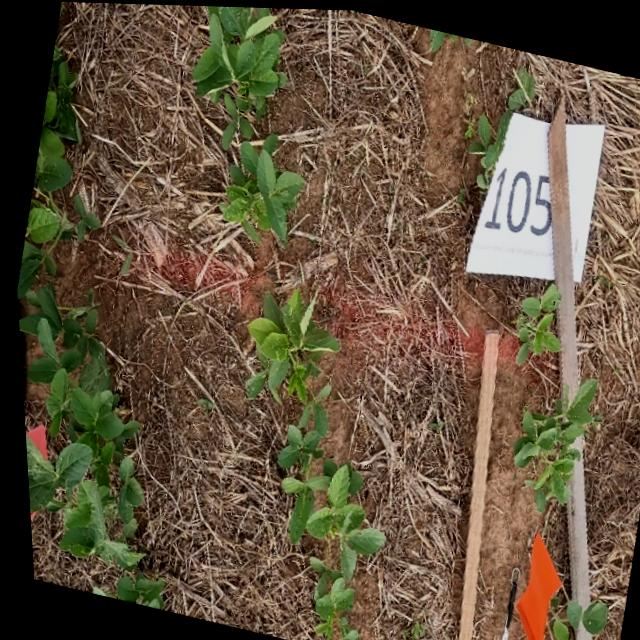soy_plant: (241, 289, 377, 640), (13, 274, 137, 572), (192, 5, 302, 241), (22, 46, 96, 248), (463, 64, 533, 191), (511, 280, 557, 360), (87, 572, 155, 608)
